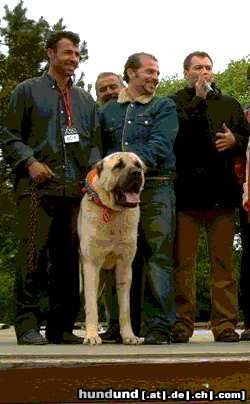human_face: (124, 57, 161, 95), (46, 40, 80, 77), (182, 58, 215, 92), (96, 74, 122, 104)
kangal: (77, 151, 147, 346)
person: (4, 29, 99, 344), (96, 48, 177, 344), (168, 50, 249, 343)
